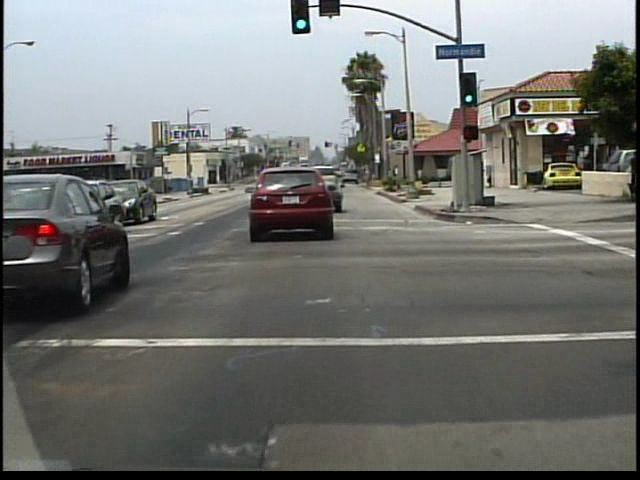person: (579, 151, 596, 194)
